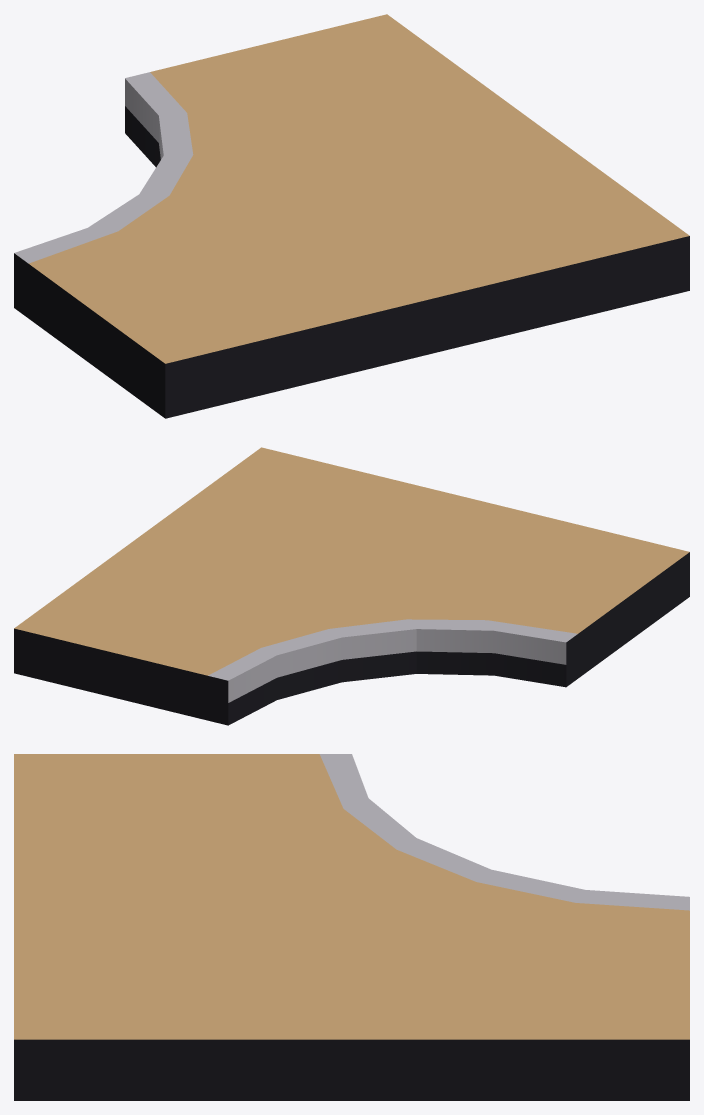
The model's file is ManPad_CNR_1Grind.fbx.
3 views of the same model, one above another, from view 1: azimuth 30°, elevation 25°; view 2: azimuth 150°, elevation 25°; view 3: azimuth 270°, elevation 25° (orthographic). The views are drawn at different scales.
Parts seen in each view (by area): view 1: ManPad_CNR_1Grind; view 2: ManPad_CNR_1Grind; view 3: ManPad_CNR_1Grind.
Boxes of the visible parts, <box> form: ManPad_CNR_1Grind: <box>14,14,689,418</box>; ManPad_CNR_1Grind: <box>14,447,689,725</box>; ManPad_CNR_1Grind: <box>14,754,689,1100</box>.
Size of the model in its own units: 10 by 1 by 10.
